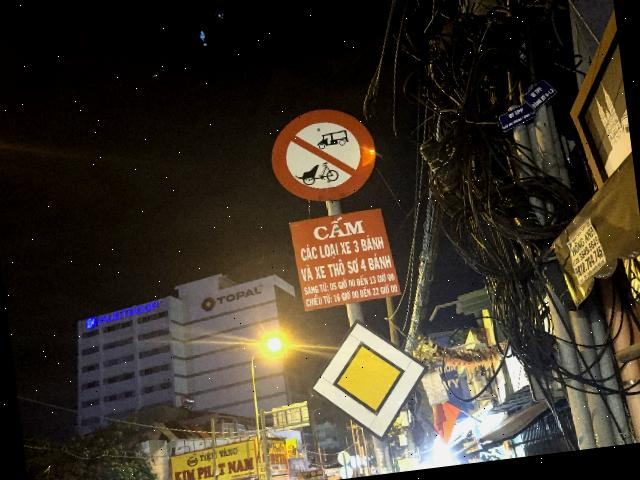bat-dau-duong-uu-tien: (301, 310, 436, 450)
cam-xe-3-banh-xe-tho-so-4-banh: (264, 102, 382, 209)
